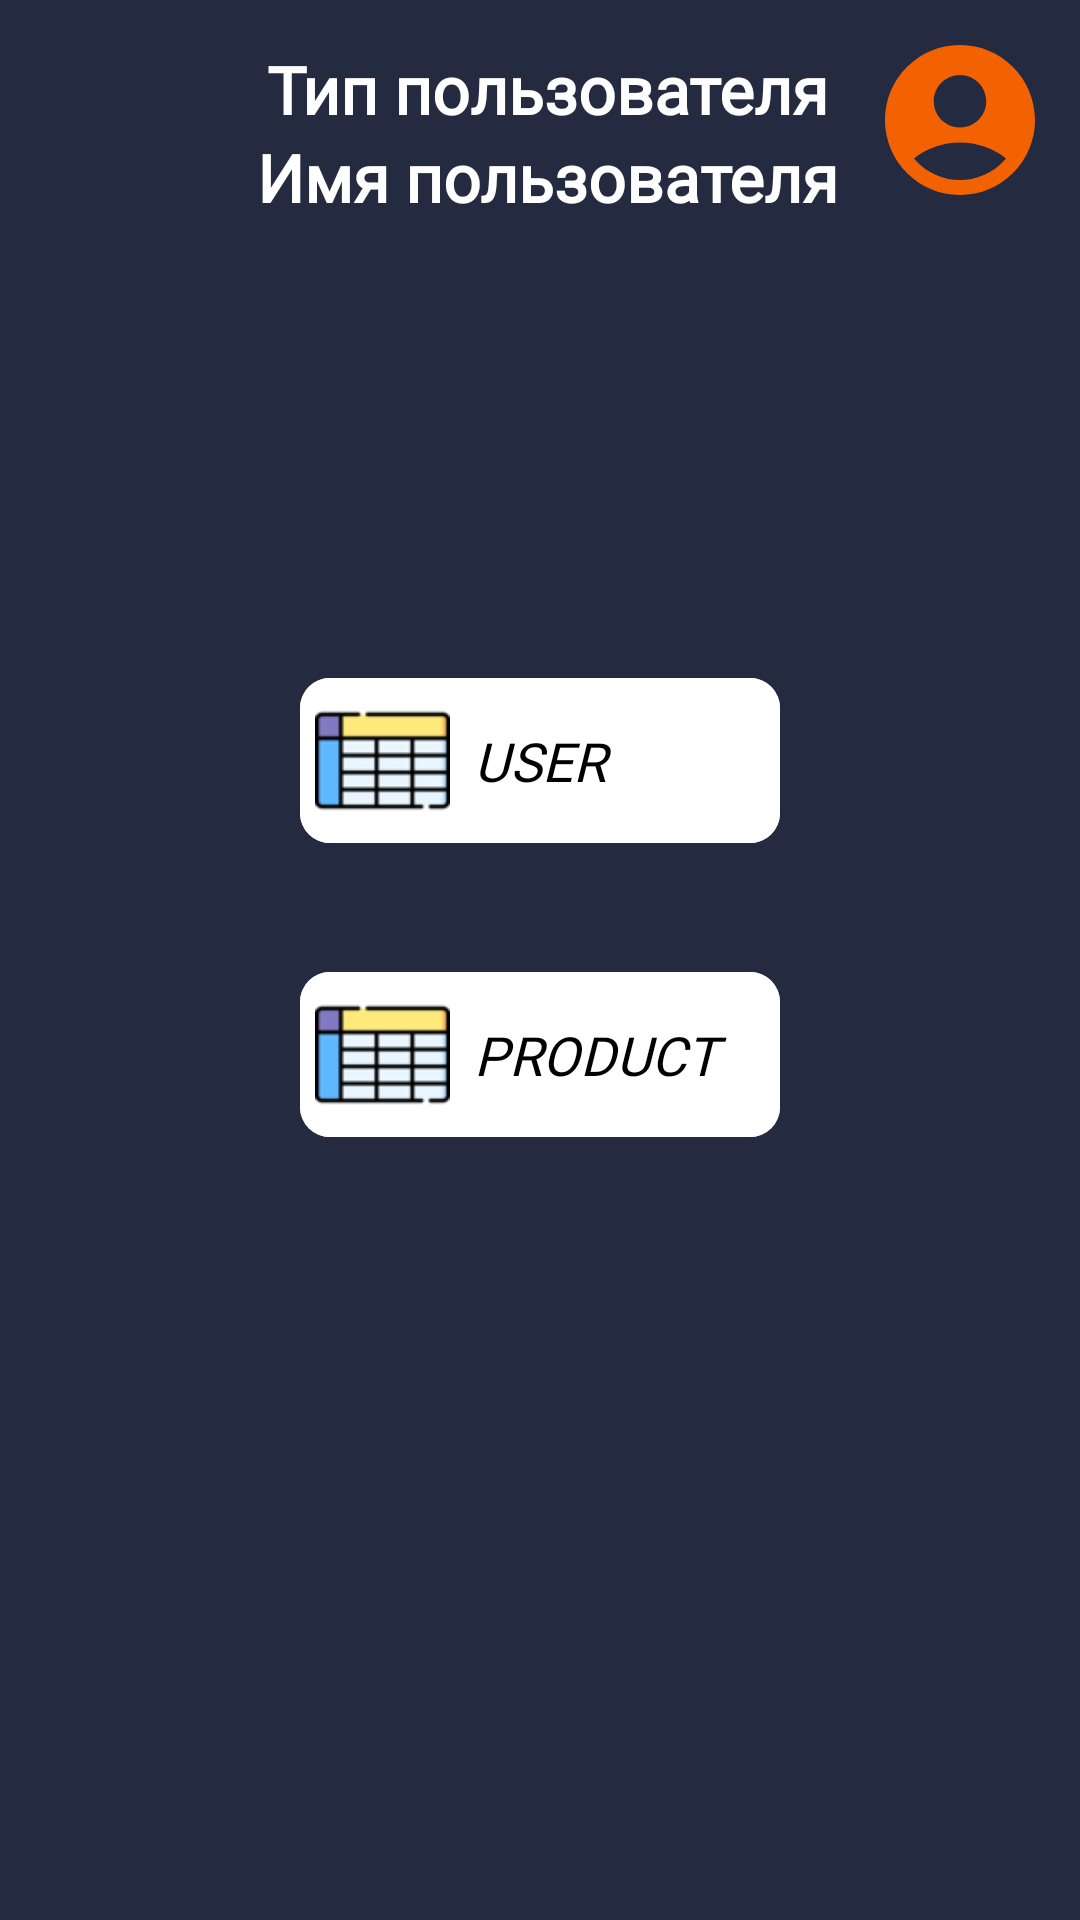

Locate icon controls on the screen. Image size 1080x1920, boxes as bbox=(x1, y1, x2, y2).
base user: bbox=(885, 45, 1035, 195)
